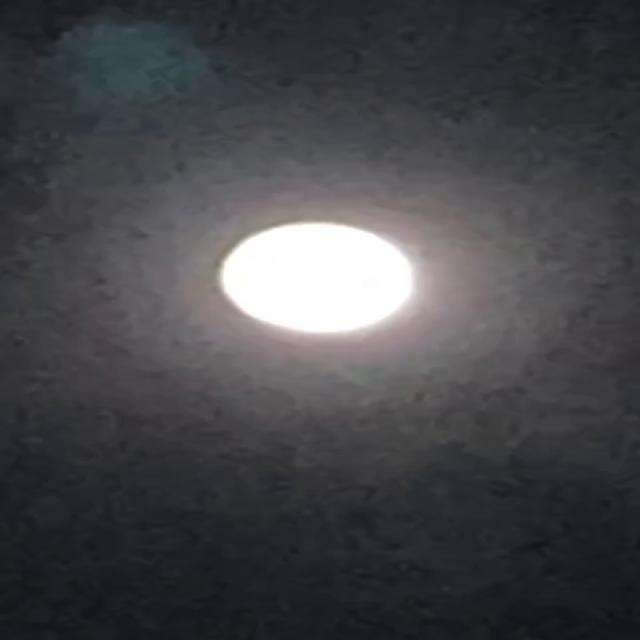moon: (205, 217, 432, 338)
